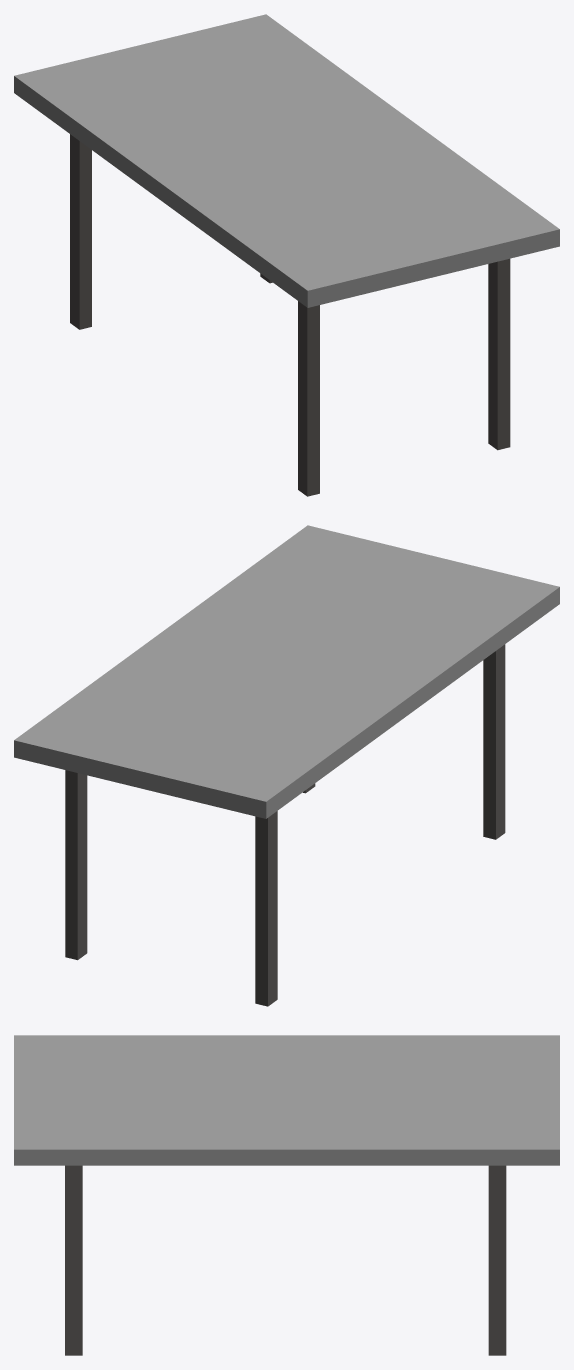
File: SO_Desk_05.fbx
3 views of the same model, one above another, from view 1: azimuth 30°, elevation 25°; view 2: azimuth 150°, elevation 25°; view 3: azimuth 270°, elevation 25° (orthographic). The views are drawn at different scales.
Parts seen in each view (by area): view 1: SO_Desk_05; view 2: SO_Desk_05; view 3: SO_Desk_05.
Part boxes in pixels (left/top/right/bottom): SO_Desk_05: left=14, top=14, right=559, bottom=496; SO_Desk_05: left=14, top=525, right=559, bottom=1006; SO_Desk_05: left=14, top=1035, right=559, bottom=1355.
Size of the model in its own units: 1.79 by 1.58 by 3.61.
